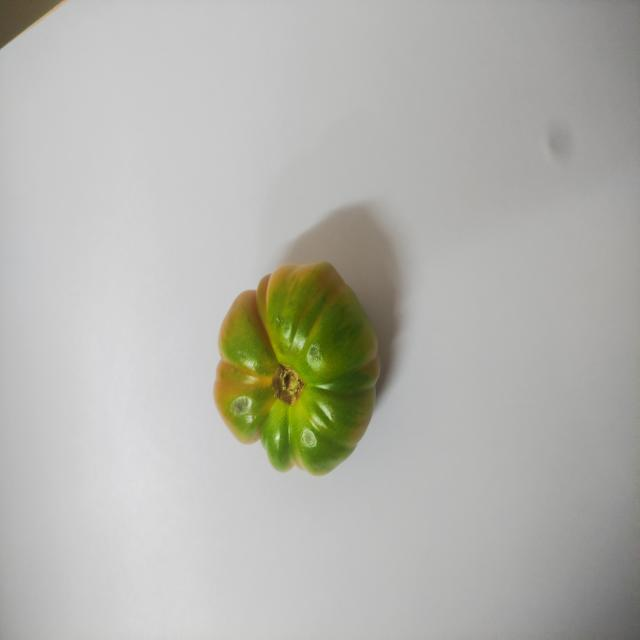yesil: (209, 262, 388, 488)
